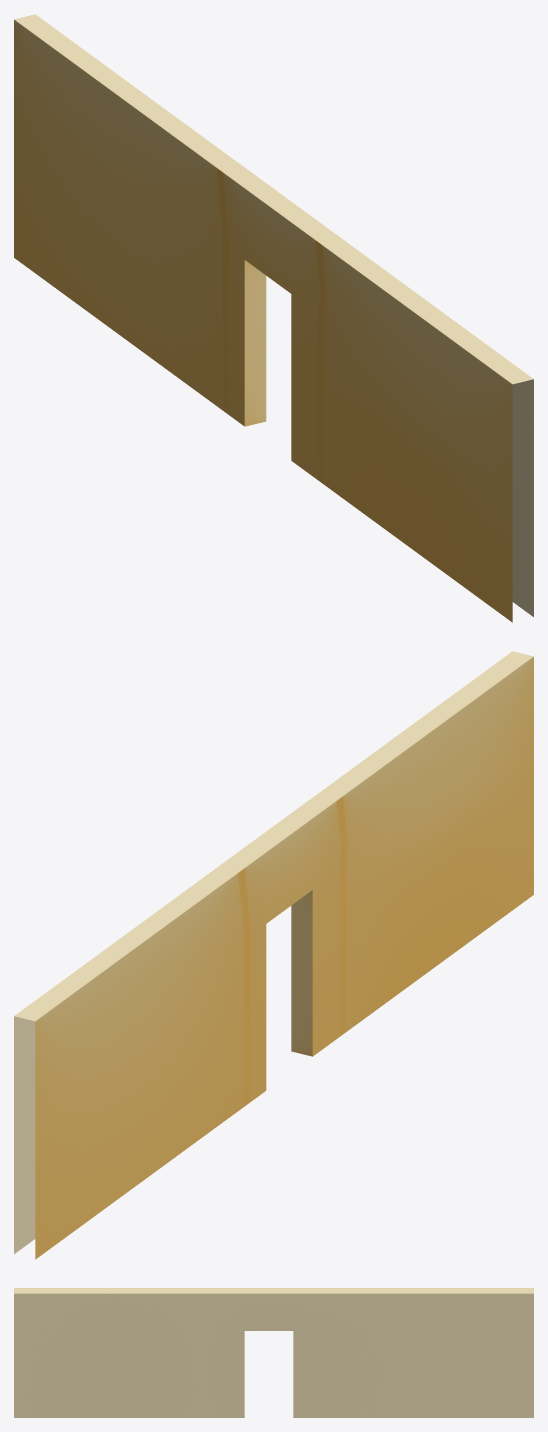
Rendered from Wallmain_front.fbx.
3 views of the same model, one above another, from view 1: azimuth 30°, elevation 25°; view 2: azimuth 150°, elevation 25°; view 3: azimuth 270°, elevation 25° (orthographic). The views are drawn at different scales.
Parts seen in each view (by area): view 1: pCube5; view 2: pCube5; view 3: pCube5.
Boxes of the visible parts, x1,y1,x2,y2 form: pCube5: (14,14,533,622); pCube5: (14,651,533,1259); pCube5: (14,1288,533,1417).
Size of the model in its own units: 0.3677 by 3.91 by 14.83.
